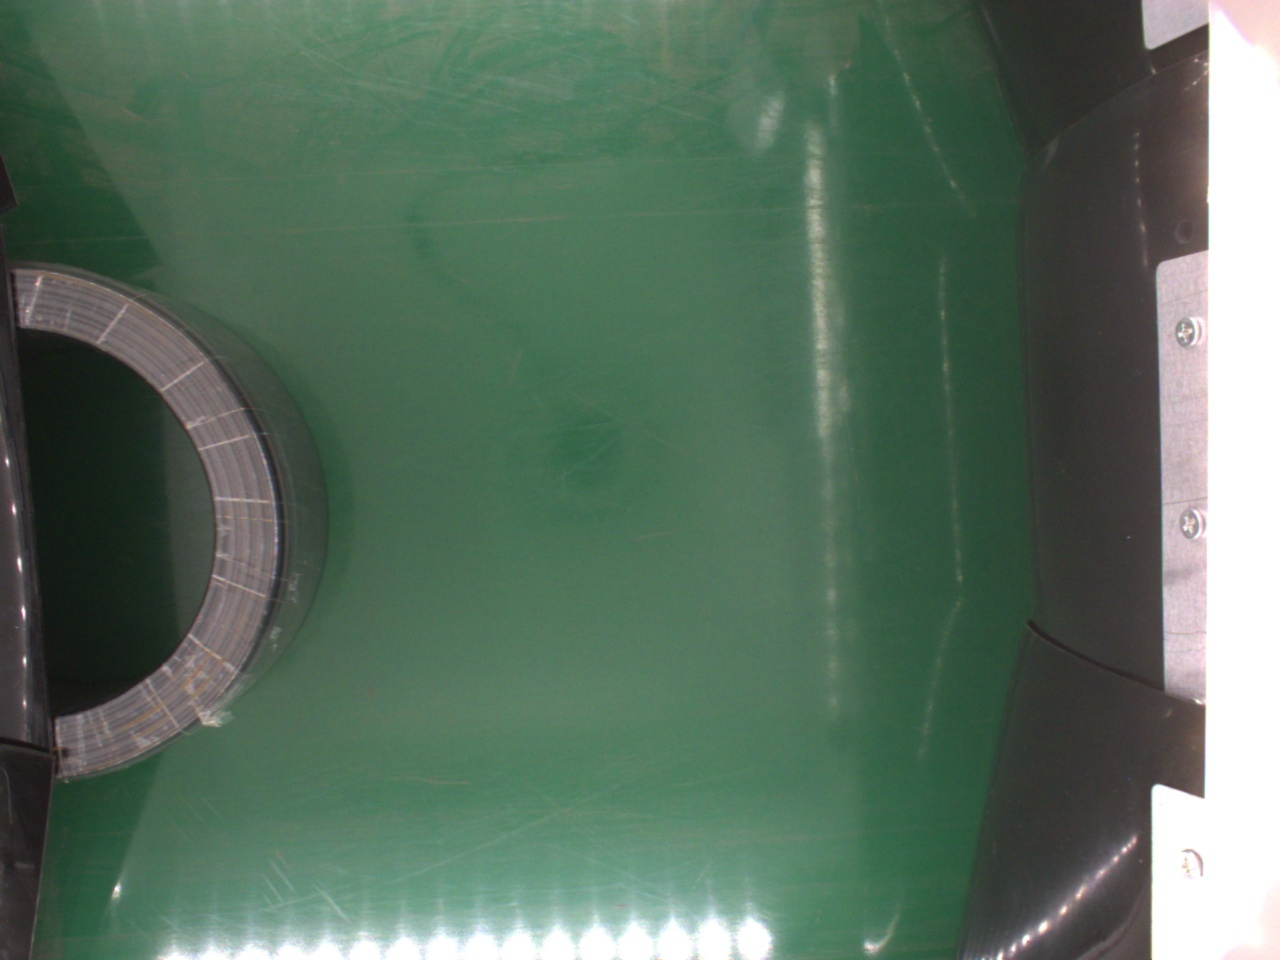black: (10, 259, 326, 778)
